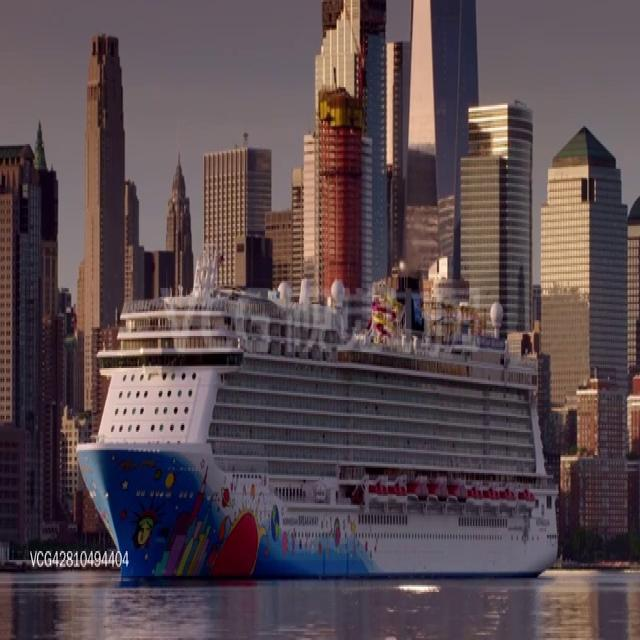passenger ship: (77, 265, 560, 582)
